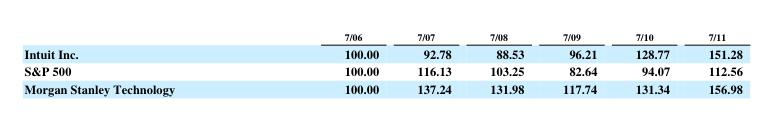table: (23, 29, 741, 97)
table column: (23, 29, 258, 97), (258, 29, 397, 97), (397, 29, 470, 97), (542, 29, 615, 97), (615, 29, 688, 97), (470, 29, 542, 97), (688, 29, 741, 97)
table column header: (23, 29, 741, 43)
table row: (23, 43, 741, 62), (23, 79, 741, 97), (23, 62, 741, 79), (23, 29, 741, 43)
